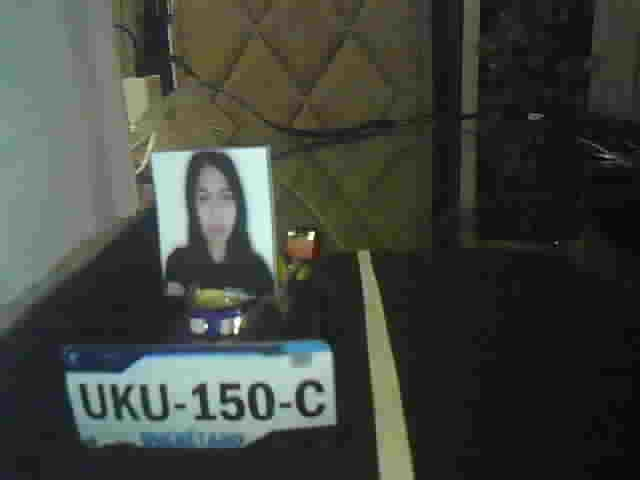PLACA: (59, 337, 339, 452)
ROSTRO: (164, 151, 274, 283)
